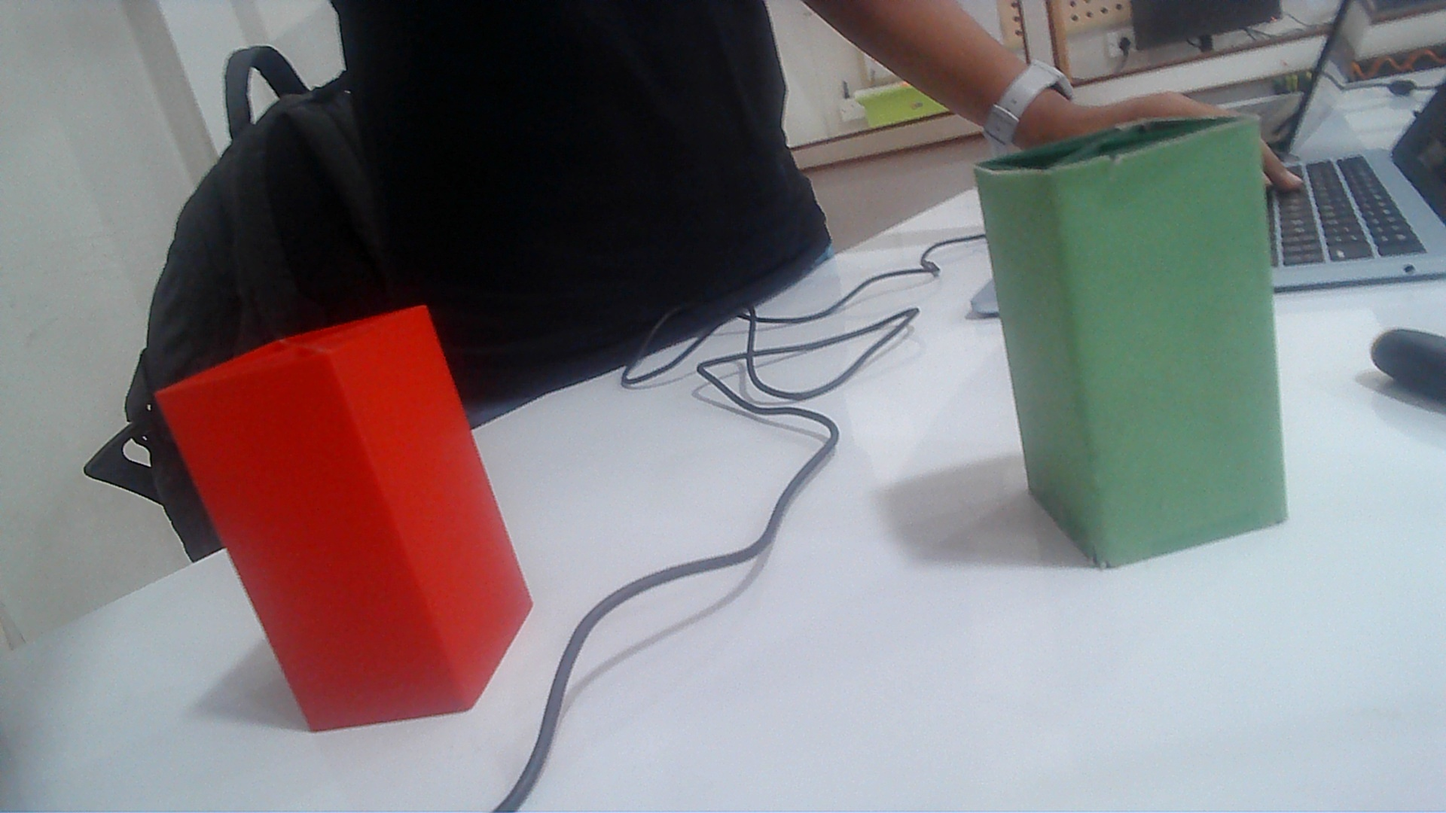red: (154, 300, 538, 729)
